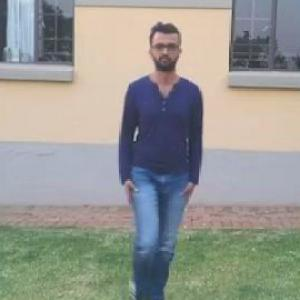follow: (122, 24, 207, 299)
